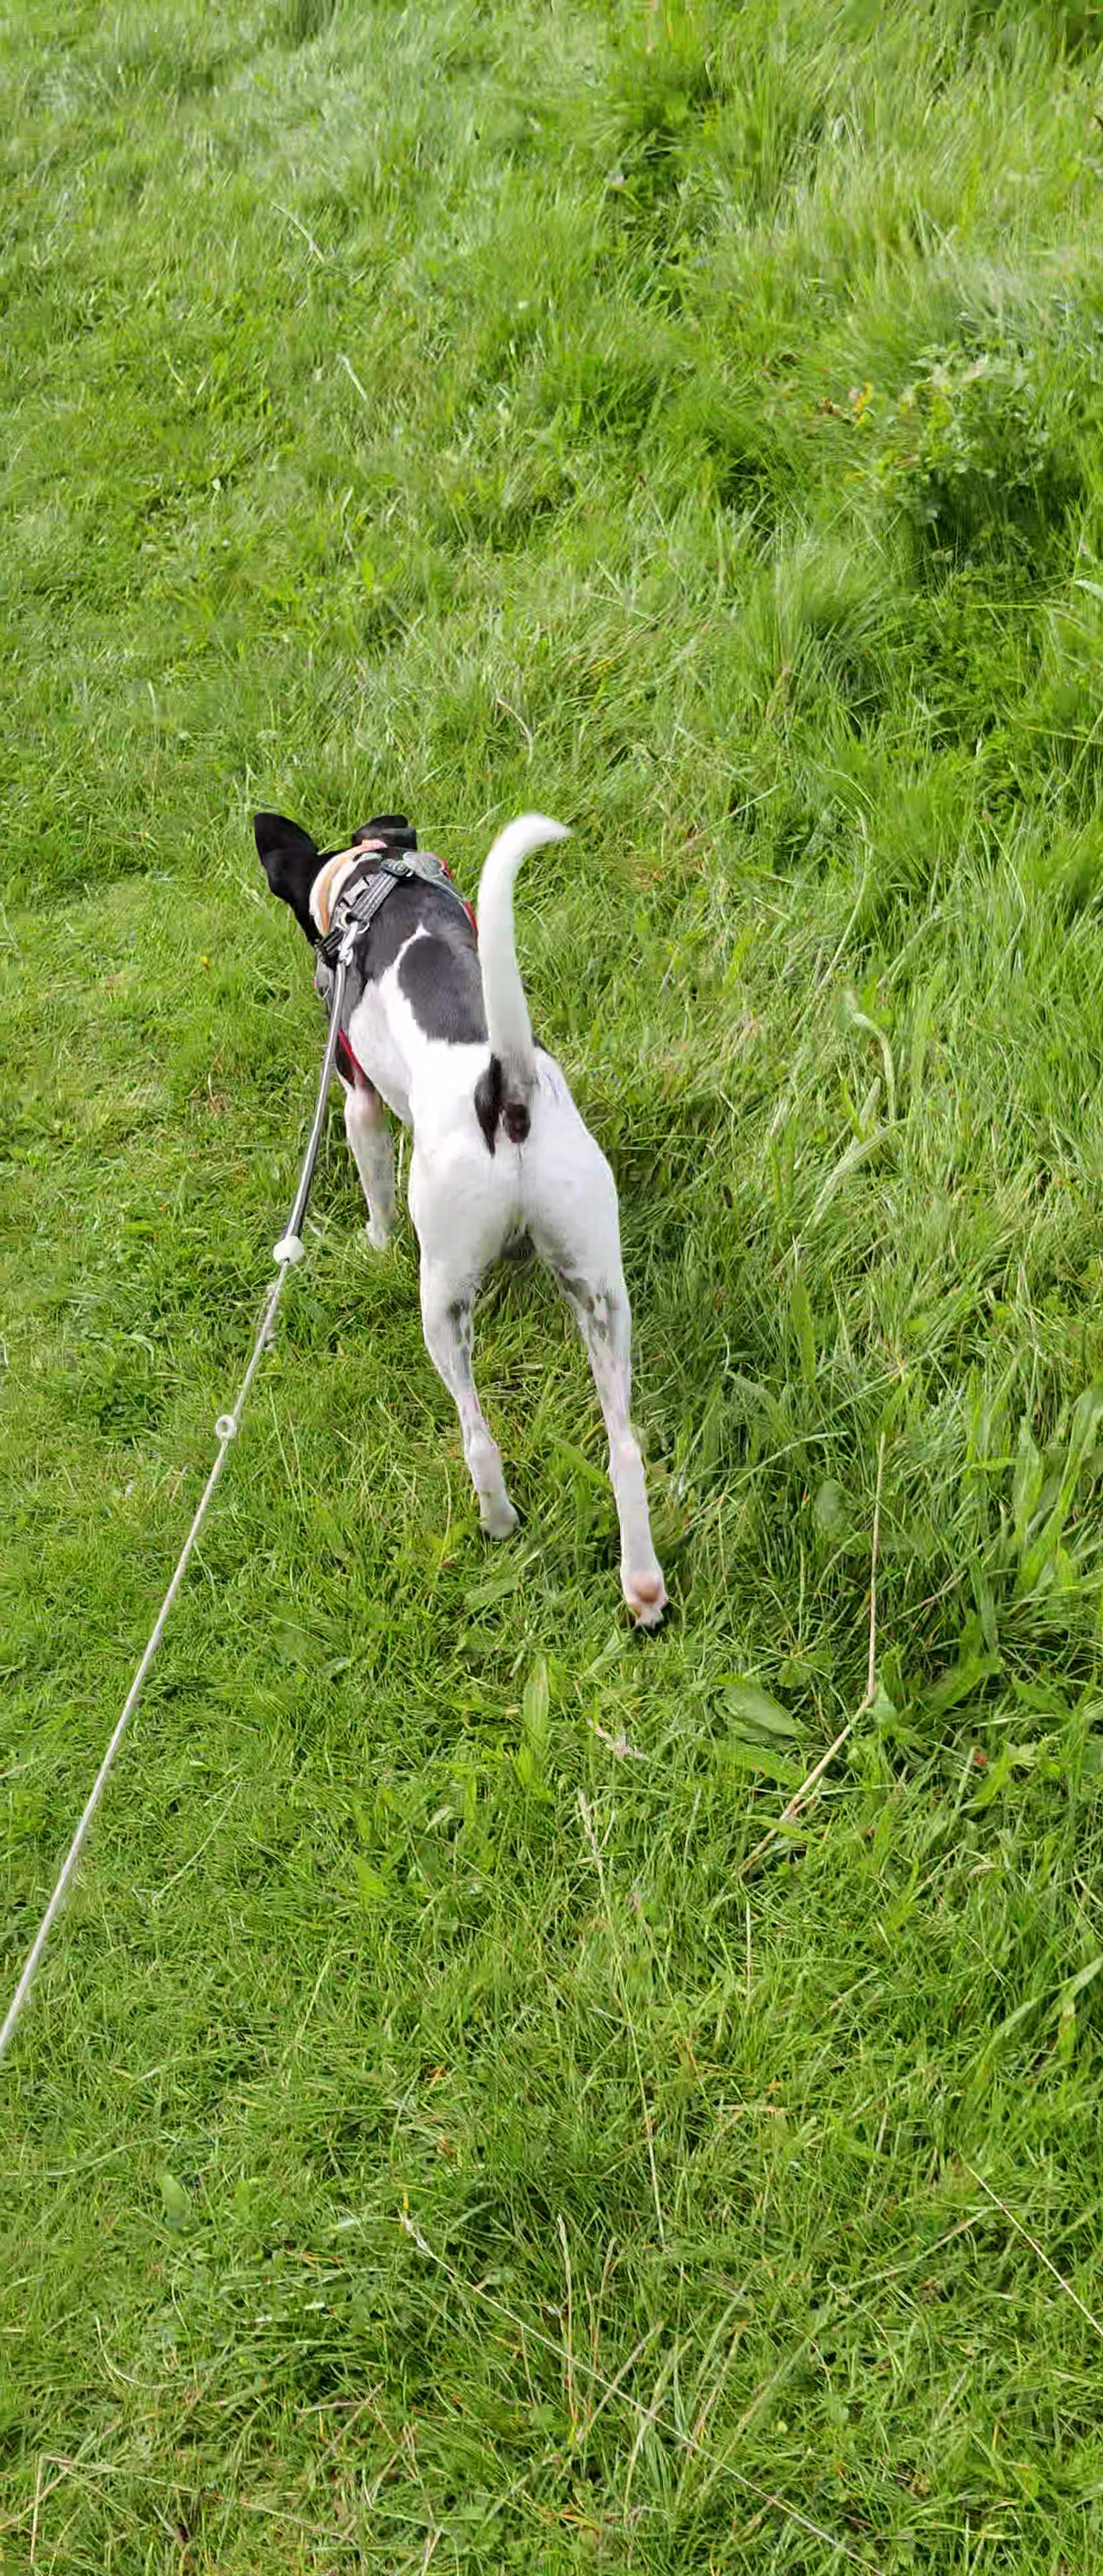Dog: (248, 800, 672, 1636)
